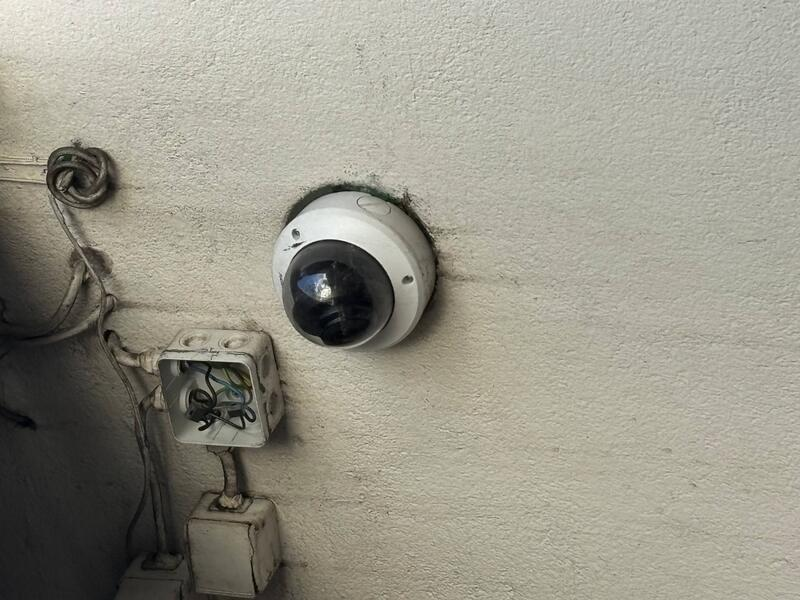dome: (246, 269, 413, 445)
